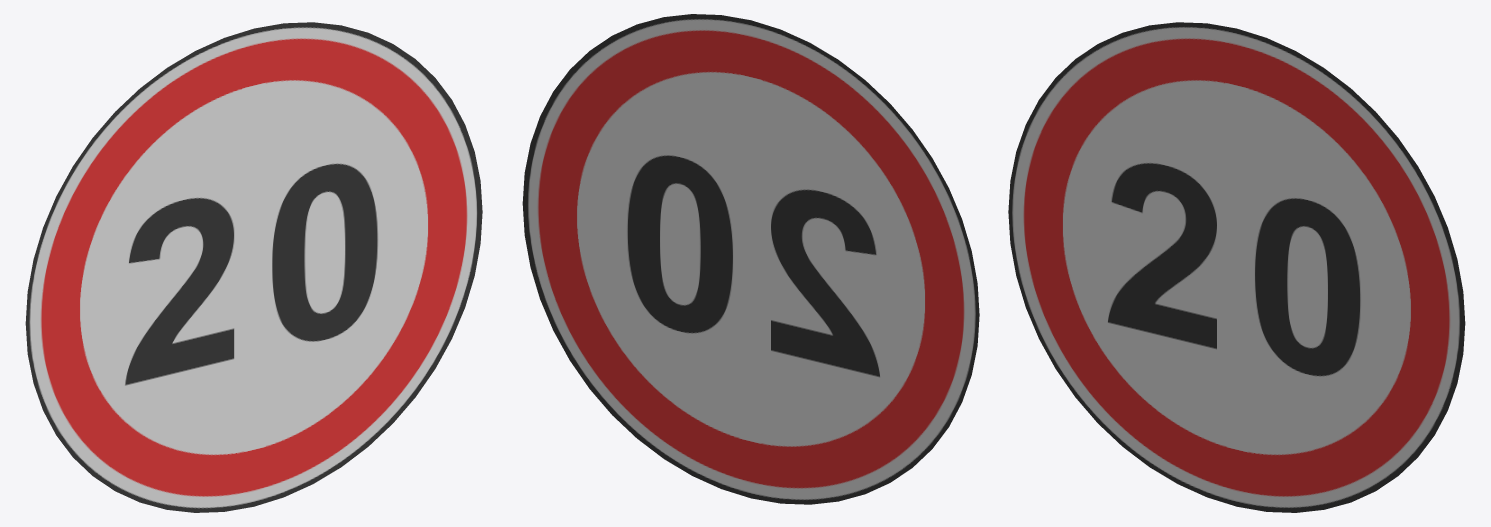
The model's file is Sign Circle.FBX.
3 renders of one model, left to right at view 1: azimuth 30°, elevation 25°; view 2: azimuth 150°, elevation 25°; view 3: azimuth 330°, elevation 25°, orthographic.
Parts seen in each view (by area): view 1: Sign Circle; view 2: Sign Circle; view 3: Sign Circle.
Boxes of the visible parts, box(x1,y1,x2,y2) form: Sign Circle: box(25, 22, 482, 512); Sign Circle: box(522, 14, 979, 504); Sign Circle: box(1008, 22, 1465, 512).
Bounding box in the file's own units: 70 × 70 × 3.
Materials: 1 (1 with a texture image).
